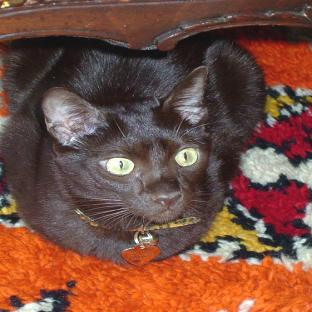Animal: (0, 34, 265, 263)
